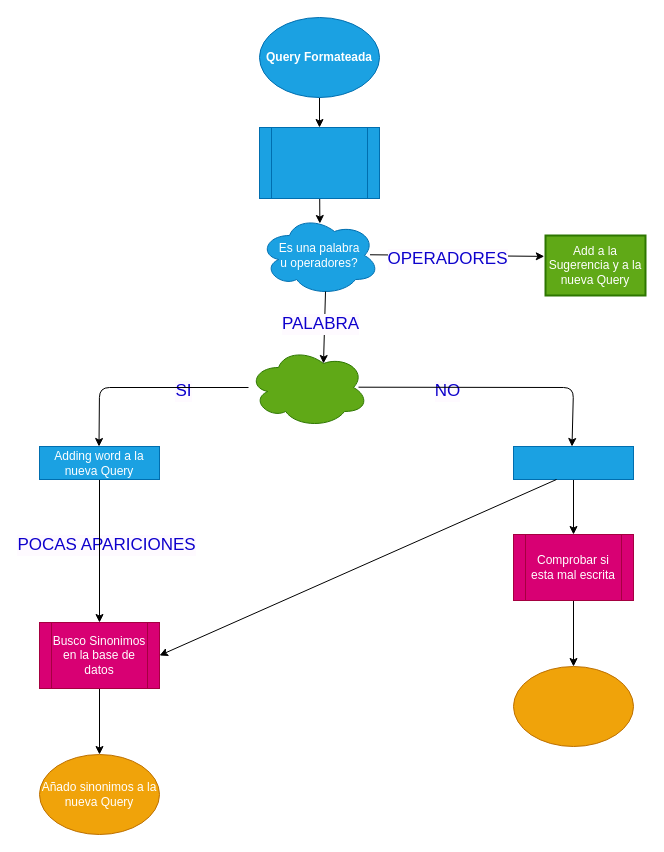
This 664x852 diagram has some shape labels left out. Each missing label, with the box of its shape:
Add word de menos transformaciones a la Sugerencia: (512, 666, 634, 746)
Adding word a la nuevaQuery: (512, 446, 634, 480)
Aparecen en los documentos?: (248, 346, 368, 428)
Divido el string en partes picando por los espacios en blanco: (258, 126, 380, 198)
